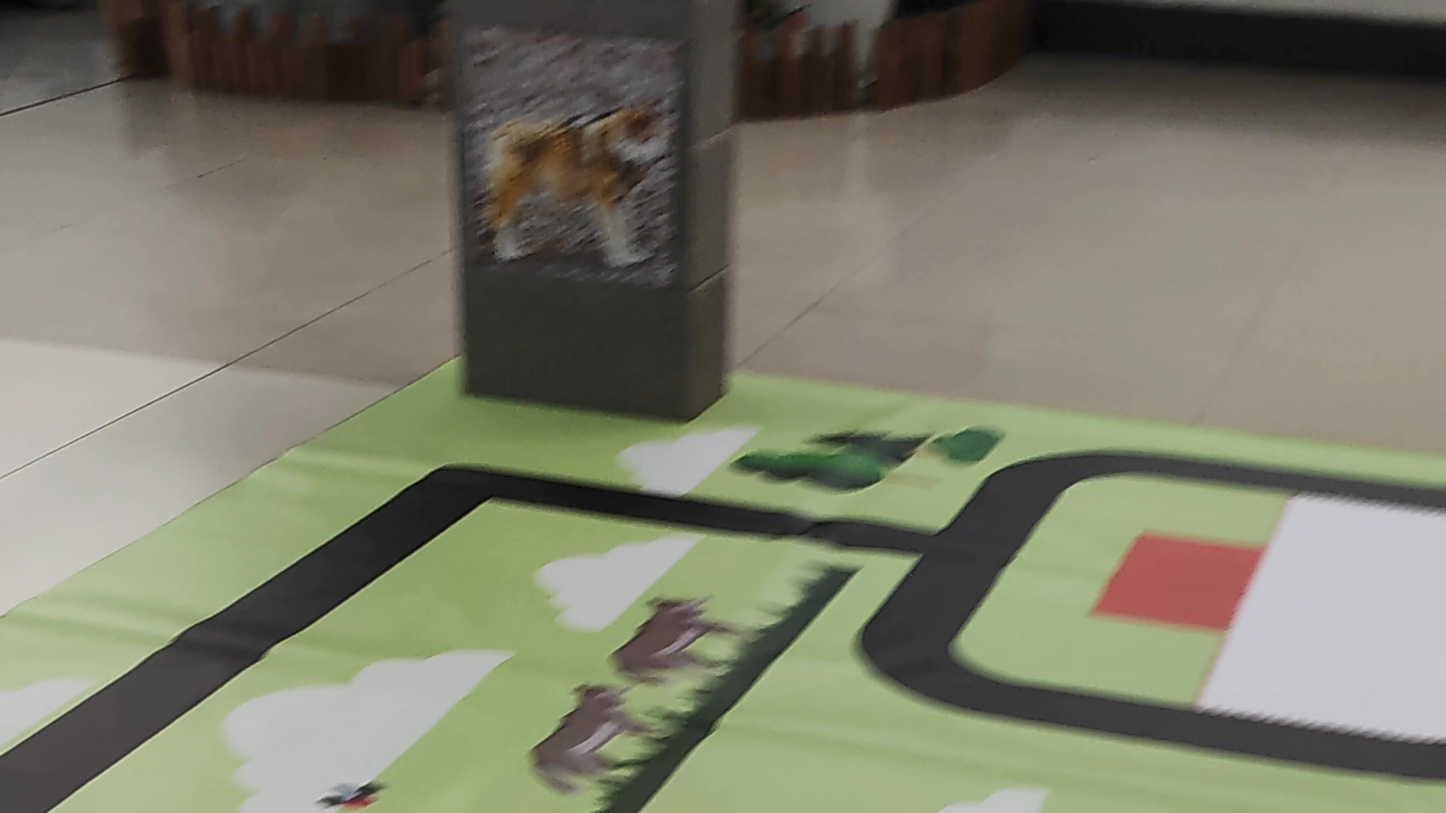wolf: (470, 78, 676, 283)
